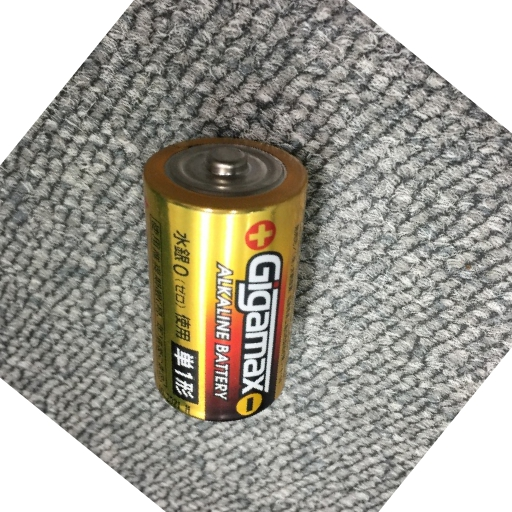Battery_0: (133, 124, 310, 427)
